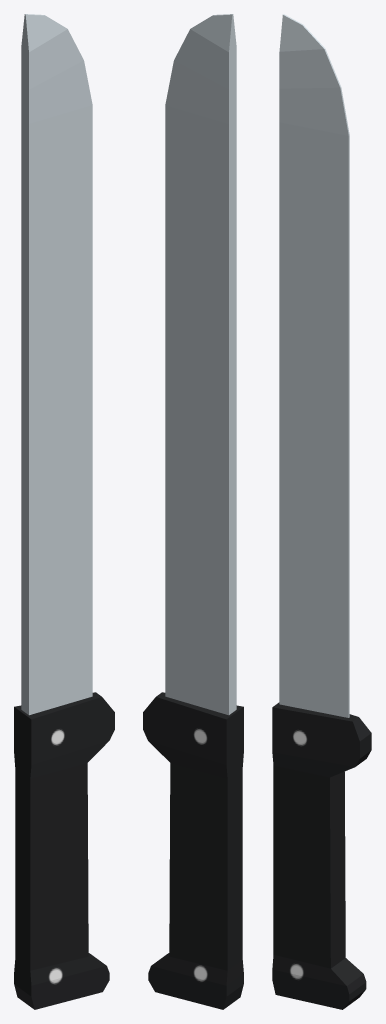
File: Machete.fbx
3 views of the same model, side by side, from view 1: azimuth 30°, elevation 25°; view 2: azimuth 150°, elevation 25°; view 3: azimuth 330°, elevation 25° (orthographic).
Parts seen in each view (by area): view 1: Cube.007; view 2: Cube.007; view 3: Cube.007.
Boxes of the visible parts, x1,y1,x2,y2 form: Cube.007: [14, 14, 114, 1009]; Cube.007: [143, 14, 243, 1009]; Cube.007: [272, 14, 371, 1009].
Size of the model in its own units: 8.8 by 96.5 by 3.07.
Materials: 2 (1 with a texture image).
